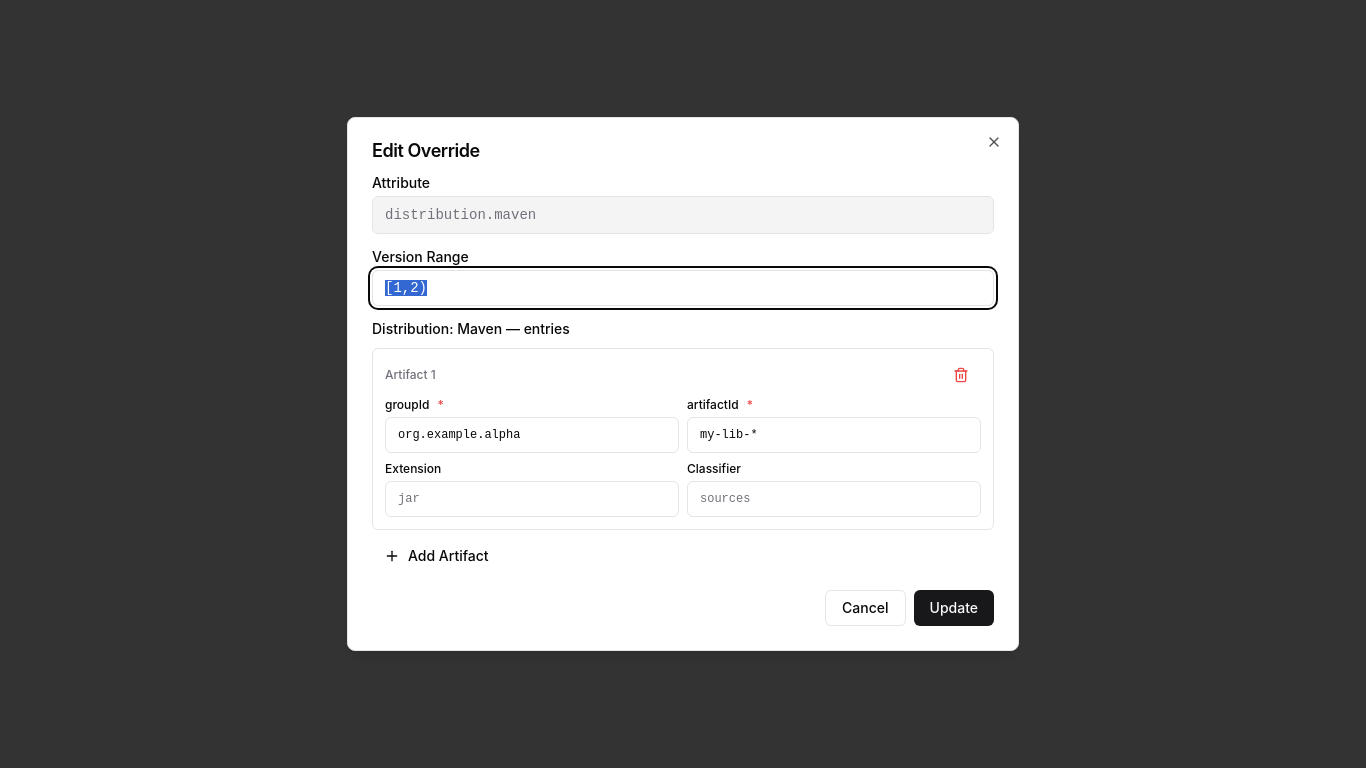
it: OverrideRowEditor — edit mode (marker) › can add a new maven artifact row
What coordinates should you click on to do the following:
click the button "Add Artifact"
I would click on:
 (436, 556)
Its box is [372,538,501,574].
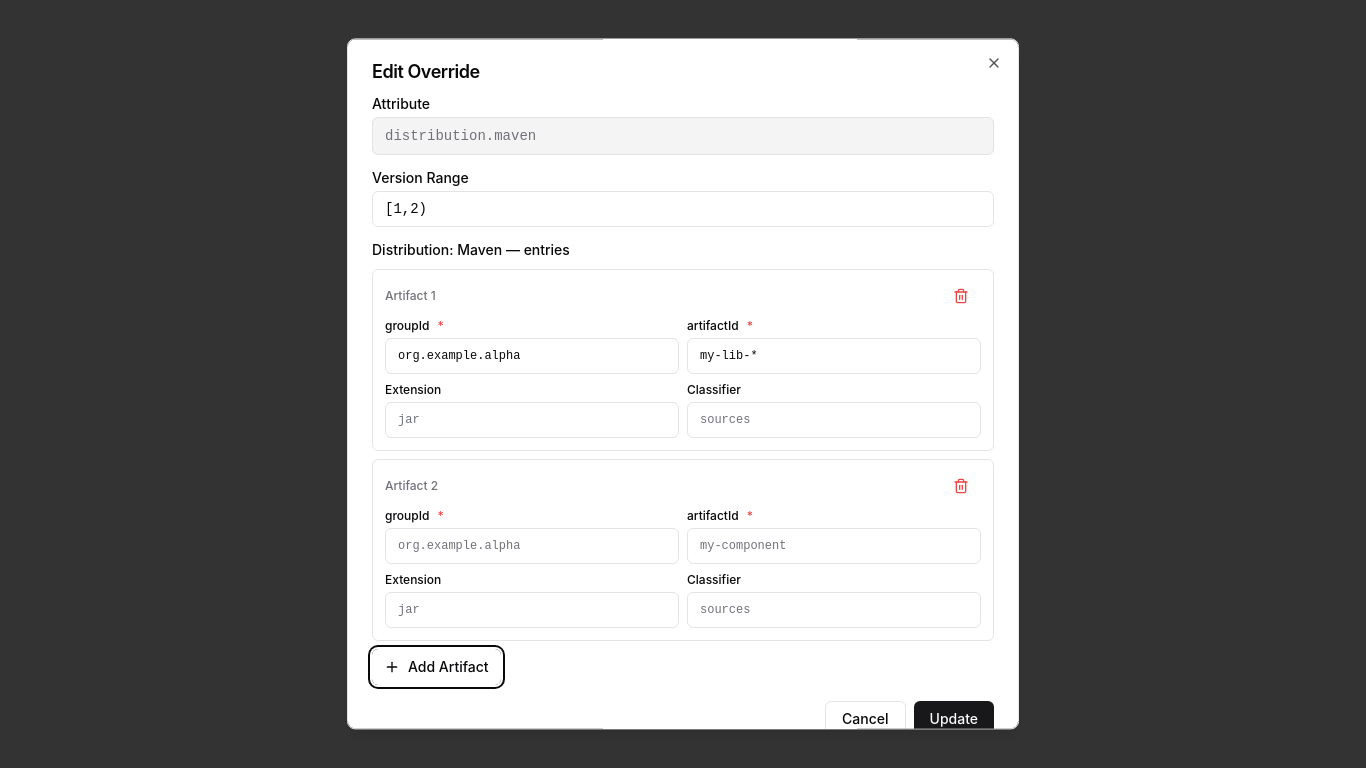
Result: the text "Artifact 2" is shown at [385,478,438,494]
